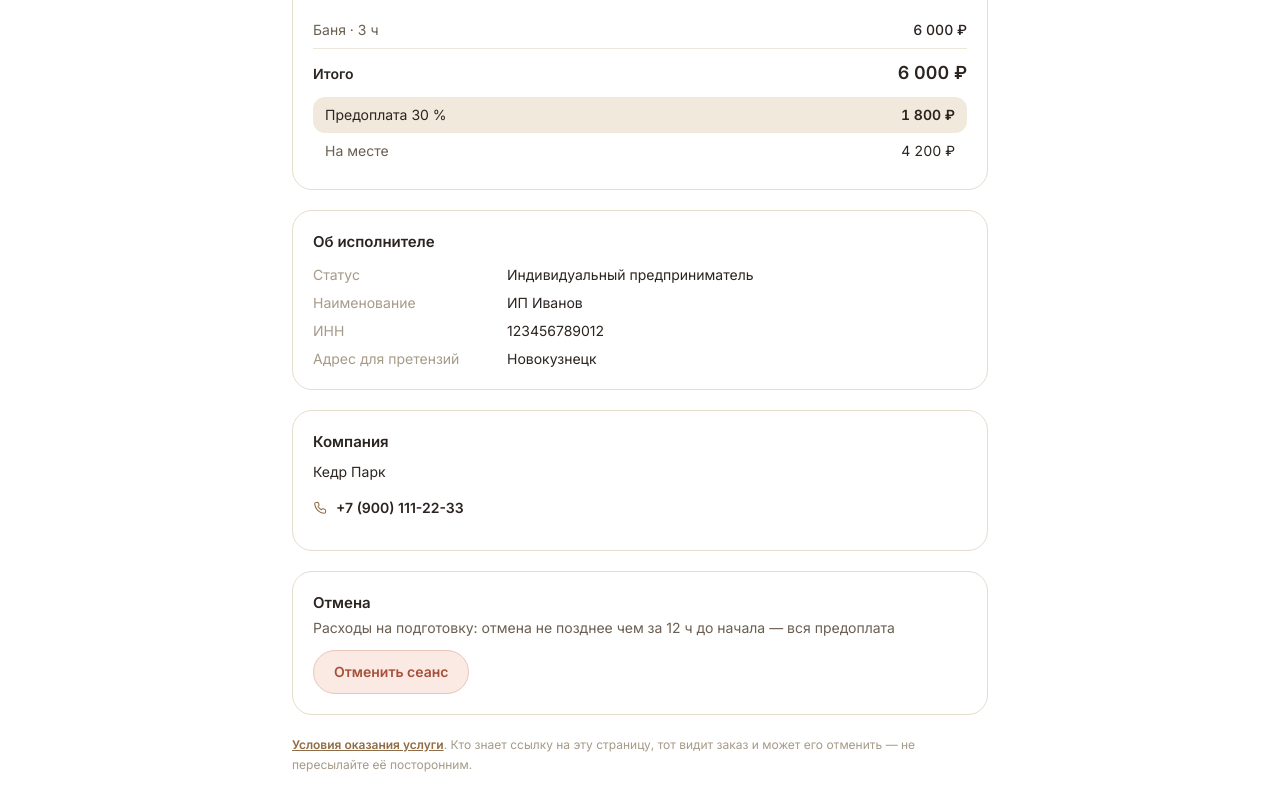
ServiceOrderPage › the cancel dialog shows the server refund text as is, says the company makes the refund, and never «не меньше 0 ₽» (ЮР39-1)
(page scrolled)
Click the button "Отменить сеанс".
click(391, 672)  # box x1=313 y1=650 x2=469 y2=694
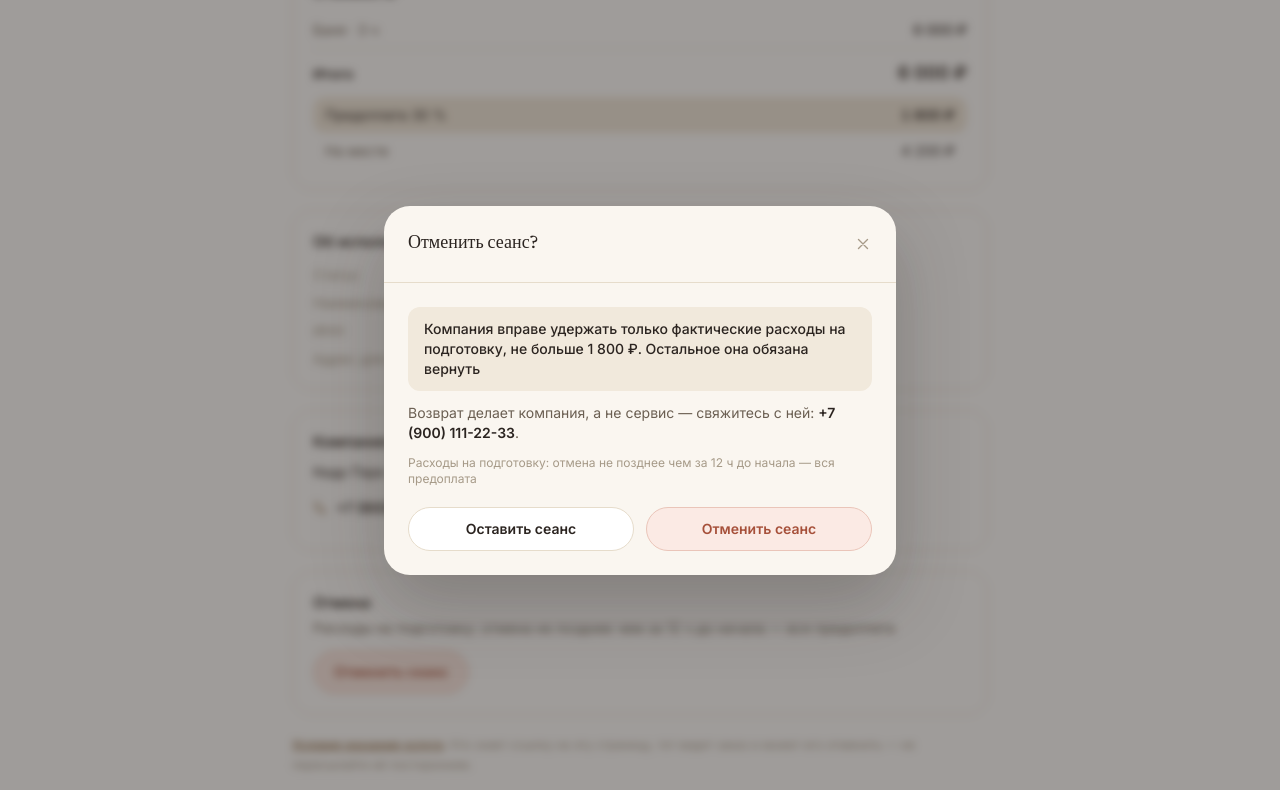
Now the text with test id "refund-text" shows "только фактические расходы на подготовку, не больше 1 800 ₽", box x1=424 y1=320 x2=846 y2=376
Now the text "Возврат делает компания, а не сервис" is shown, box x1=408 y1=404 x2=674 y2=420
Now the link "+7 (900) 111-22-33" is shown, box x1=408 y1=404 x2=835 y2=440
